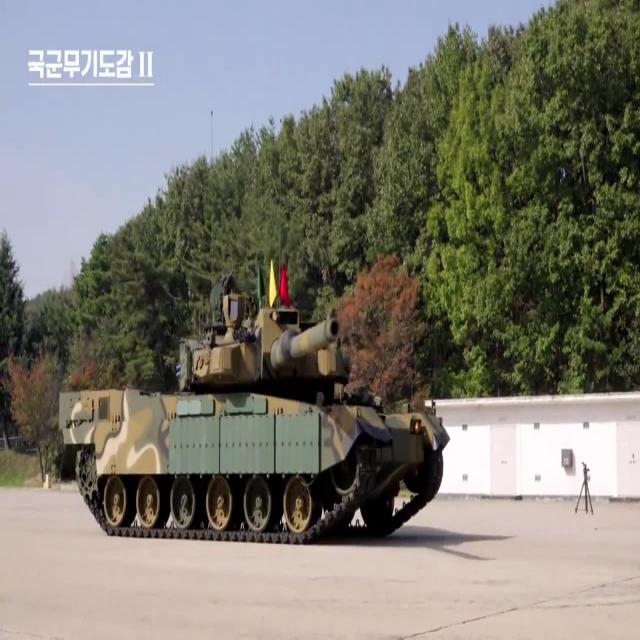korea tank: (58, 265, 452, 547)
